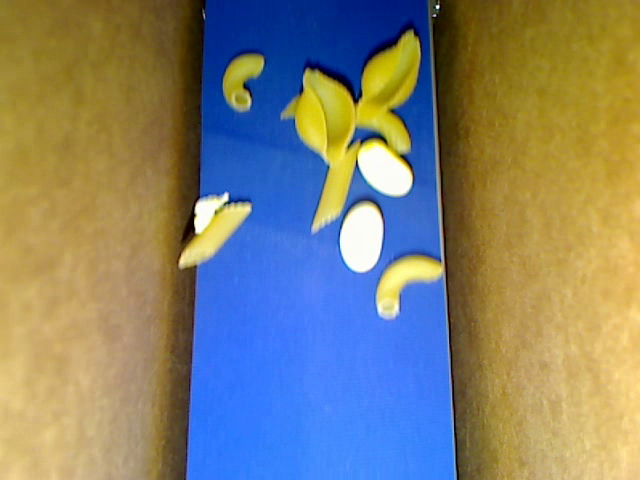elbow: (374, 254, 443, 319), (351, 104, 410, 156), (222, 53, 265, 111)
penne: (178, 201, 251, 268), (311, 140, 360, 234)
shell: (294, 69, 354, 165), (361, 31, 420, 107)
